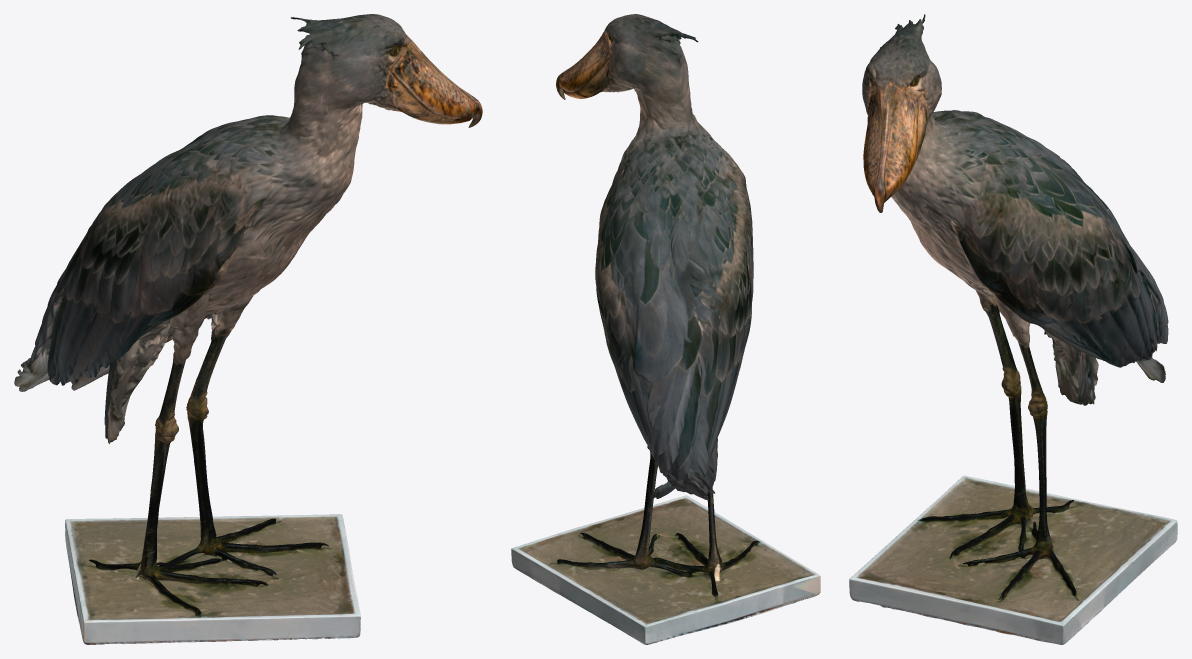
Rendered from shoebill_nhmw-zoo-vs-62.593.glb.
3 views of the same model, side by side, from view 1: azimuth 30°, elevation 25°; view 2: azimuth 150°, elevation 25°; view 3: azimuth 270°, elevation 25° (orthographic). The views are drawn at different scales.
Parts seen in each view (by area): view 1: Object_3, Object_2; view 2: Object_2, Object_3; view 3: Object_2, Object_3.
Part boxes in pixels (box(x1,y1,x2,y2)): Object_3: box(25, 29, 482, 643); Object_2: box(14, 14, 482, 644); Object_2: box(511, 14, 820, 644); Object_3: box(511, 48, 753, 644); Object_2: box(856, 14, 1177, 644); Object_3: box(849, 45, 1176, 643).
Size of the model in its own units: 0.8246 by 1.34 by 0.6931.
1 material, 1 textured.
